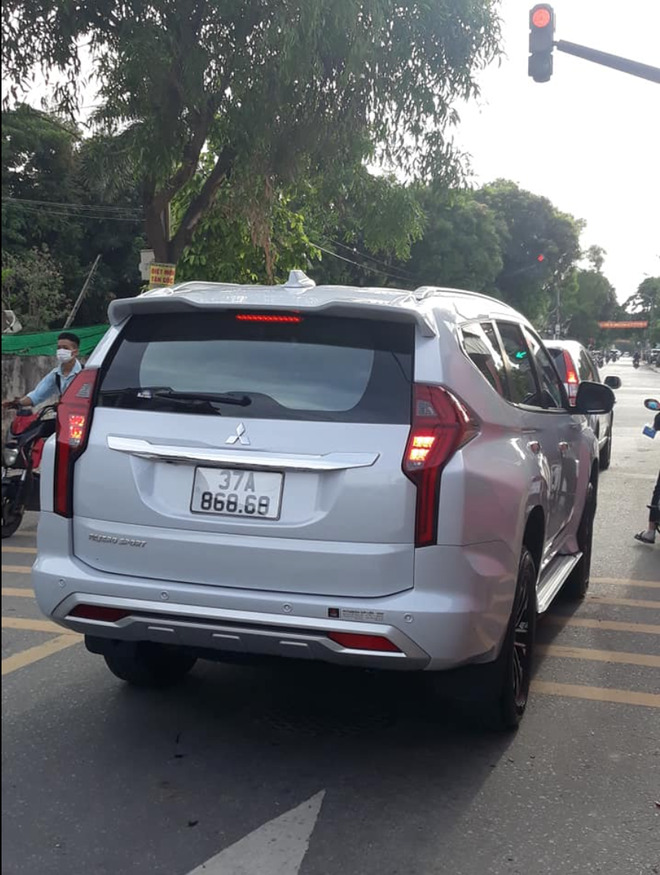number_plate: (193, 464, 286, 522)
